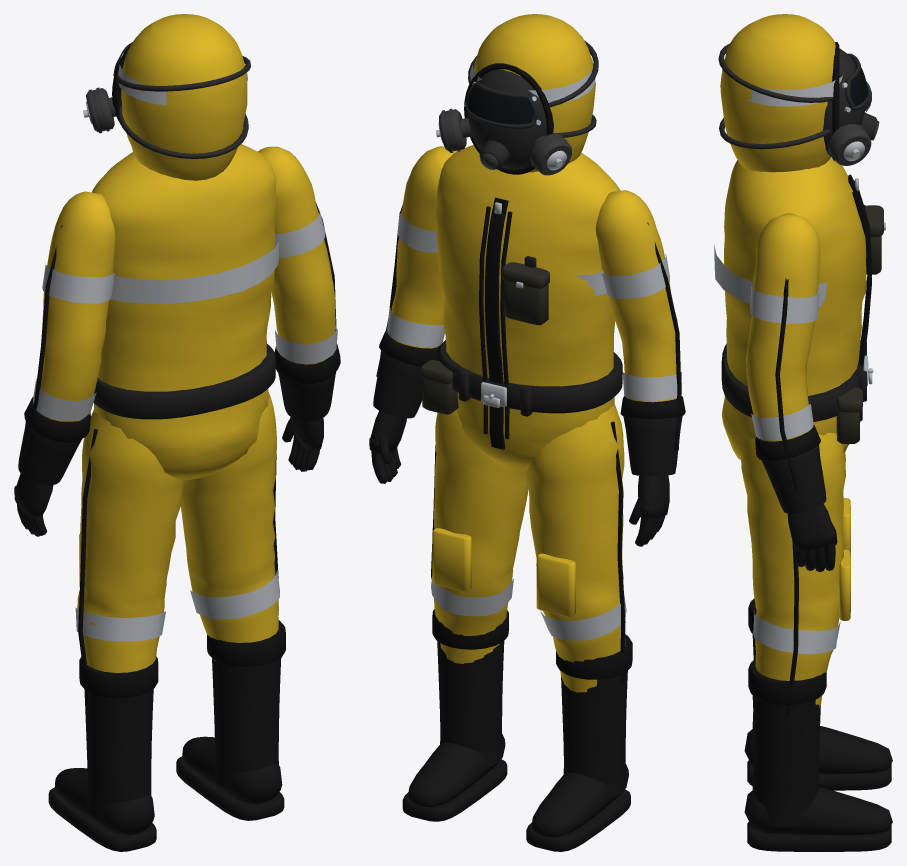
The model's file is hazmat.glb.
3 views of the same model, side by side, from view 1: azimuth 30°, elevation 25°; view 2: azimuth 150°, elevation 25°; view 3: azimuth 270°, elevation 25° (orthographic). The views are drawn at different scales.
Parts seen in each view (by area): view 1: Hazmat_Suit, Hazmat_Boots, Hazmat_Metal, Hazmat_Tape, Hazmat_Gloves, Hazmat_Belt, Hazmat_Mask, Hazmat_Filter; view 2: Hazmat_Suit, Hazmat_Boots, Hazmat_Tape, Hazmat_Metal, Hazmat_Gloves, Hazmat_Mask, Hazmat_Belt, Hazmat_Pouch, Hazmat_Filter, Hazmat_Visor; view 3: Hazmat_Suit, Hazmat_Boots, Hazmat_Metal, Hazmat_Tape, Hazmat_Gloves, Hazmat_Mask, Hazmat_Belt, Hazmat_Pouch, Hazmat_Filter, Hazmat_Visor.
Part boxes in pixels (<box>): Hazmat_Suit: <box>40,14,335,672</box>; Hazmat_Boots: <box>48,658,284,851</box>; Hazmat_Metal: <box>33,53,337,641</box>; Hazmat_Tape: <box>22,42,340,700</box>; Hazmat_Gloves: <box>14,371,336,536</box>; Hazmat_Belt: <box>93,344,275,419</box>; Hazmat_Mask: <box>113,42,250,158</box>; Hazmat_Filter: <box>86,87,119,133</box>; Hazmat_Suit: <box>391,14,677,692</box>; Hazmat_Boots: <box>402,641,630,851</box>; Hazmat_Tape: <box>376,63,685,682</box>; Hazmat_Metal: <box>387,65,681,640</box>; Hazmat_Gloves: <box>369,351,682,546</box>; Hazmat_Mask: <box>465,40,598,169</box>; Hazmat_Belt: <box>437,256,622,416</box>; Hazmat_Pouch: <box>420,262,549,414</box>; Hazmat_Filter: <box>439,108,572,175</box>; Hazmat_Visor: <box>467,86,533,124</box>; Hazmat_Suit: <box>720,14,866,707</box>; Hazmat_Boots: <box>744,634,892,851</box>; Hazmat_Metal: <box>714,75,885,654</box>; Hazmat_Tape: <box>748,42,871,714</box>; Hazmat_Gloves: <box>761,445,837,571</box>; Hazmat_Mask: <box>718,43,877,156</box>; Hazmat_Belt: <box>721,205,866,421</box>; Hazmat_Pouch: <box>836,205,883,444</box>; Hazmat_Filter: <box>827,81,879,165</box>; Hazmat_Visor: <box>850,67,867,106</box>.
Size of the model in its own units: 0.733 by 1.8 by 0.3697.
